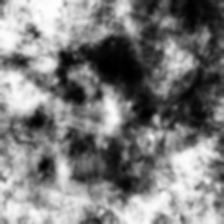Potentially Malignant Skin Tumors: (40, 36, 181, 194)
